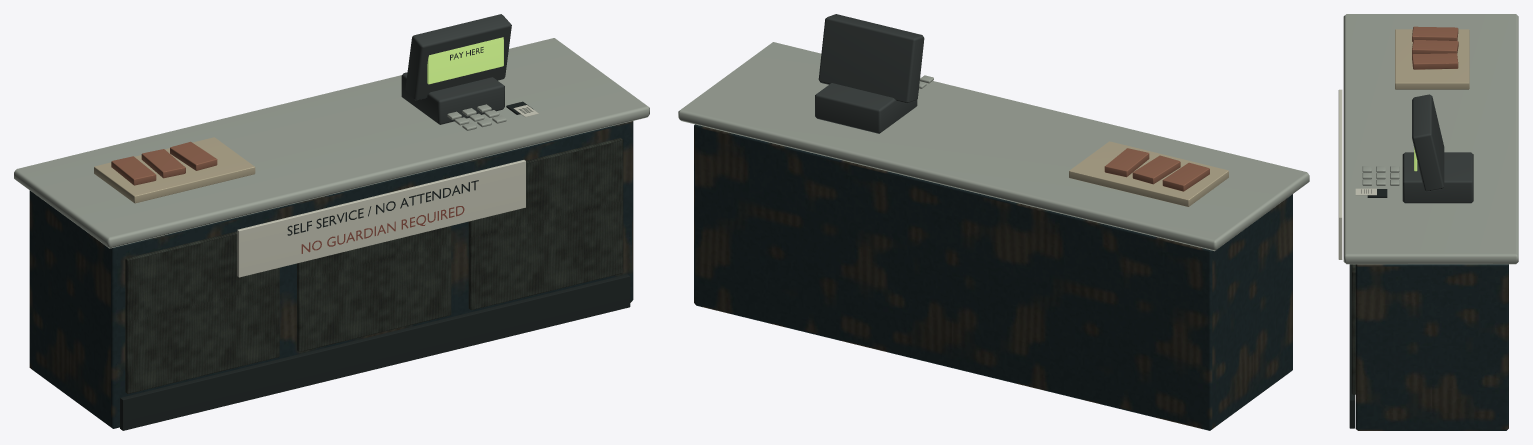
Rendered from corner-shop-counter.glb.
3 renders of one model, left to right at view 1: azimuth 30°, elevation 25°; view 2: azimuth 150°, elevation 25°; view 3: azimuth 270°, elevation 25°, orthographic. The views are drawn at different scales.
Parts seen in each view (by area): view 1: Authored Salt worn timber grain, Authored enamel, Authored Faded harbour paint, Authored black, Authored paper, Authored iron, Authored card, Authored rationred, Authored display, Authored red; view 2: Authored Faded harbour paint, Authored enamel, Authored iron, Authored card, Authored rationred; view 3: Authored enamel, Authored Faded harbour paint, Authored iron, Authored card, Authored rationred, Authored paper, Authored black, Authored Salt worn timber grain.
Part boxes in pixels (left/top/right/bottom): Authored Salt worn timber grain: left=125, top=138, right=623, bottom=393; Authored enamel: left=14, top=38, right=649, bottom=248; Authored Faded harbour paint: left=29, top=121, right=633, bottom=428; Authored black: left=120, top=47, right=630, bottom=430; Authored paper: left=237, top=105, right=538, bottom=277; Authored iron: left=401, top=14, right=511, bottom=124; Authored card: left=94, top=137, right=255, bottom=203; Authored rationred: left=111, top=141, right=217, bottom=185; Authored display: left=427, top=37, right=503, bottom=84; Authored red: left=301, top=206, right=464, bottom=253; Authored Faded harbour paint: left=694, top=124, right=1292, bottom=430; Authored enamel: left=678, top=42, right=1309, bottom=251; Authored iron: left=815, top=14, right=924, bottom=133; Authored card: left=1069, top=141, right=1228, bottom=206; Authored rationred: left=1104, top=148, right=1209, bottom=191; Authored enamel: left=1343, top=14, right=1518, bottom=264; Authored Faded harbour paint: left=1355, top=264, right=1508, bottom=430; Authored iron: left=1402, top=94, right=1473, bottom=203; Authored card: left=1395, top=29, right=1469, bottom=89; Authored rationred: left=1412, top=26, right=1458, bottom=69; Authored paper: left=1338, top=89, right=1376, bottom=259; Authored black: left=1349, top=189, right=1387, bottom=428; Authored Salt worn timber grain: left=1351, top=264, right=1355, bottom=394.
Bounding box in the file's own units: 2.91 × 1.44 × 0.918.
10 materials, 2 textured.
